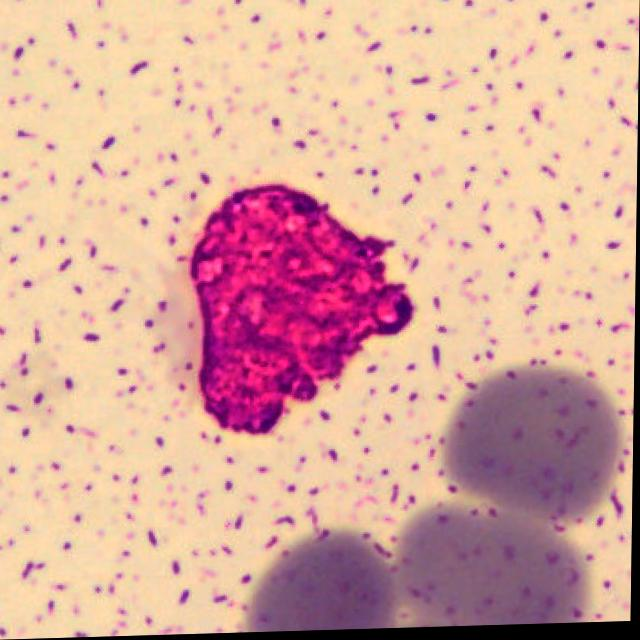Mieloblasto: (191, 184, 417, 432)
